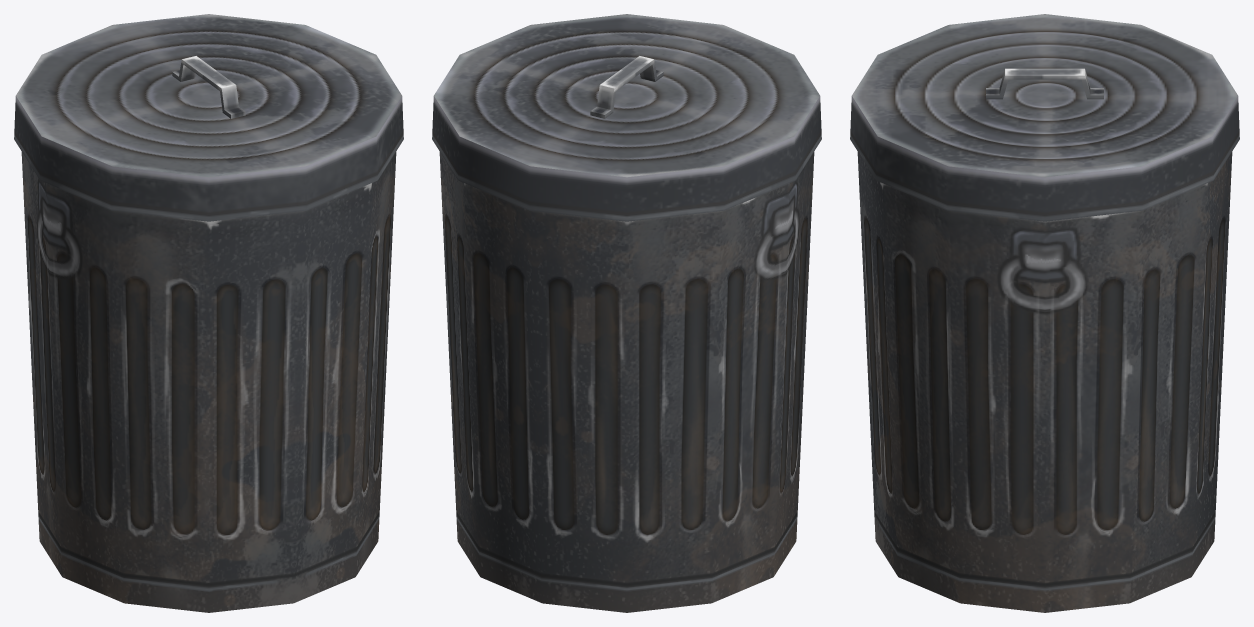
The model's file is trashCan02.FBX.
3 views of the same model, side by side, from view 1: azimuth 30°, elevation 25°; view 2: azimuth 150°, elevation 25°; view 3: azimuth 270°, elevation 25° (orthographic).
Parts seen in each view (by area): view 1: trashCan02, trashCan02_lid; view 2: trashCan02, trashCan02_lid; view 3: trashCan02, trashCan02_lid.
Boxes of the visible parts, <box> form: trashCan02: <box>21,152,396,612</box>; trashCan02_lid: <box>14,14,403,221</box>; trashCan02: <box>439,152,814,612</box>; trashCan02_lid: <box>432,14,821,221</box>; trashCan02: <box>857,152,1232,612</box>; trashCan02_lid: <box>850,14,1239,221</box>.
Size of the model in its own units: 56 by 74.38 by 56.
